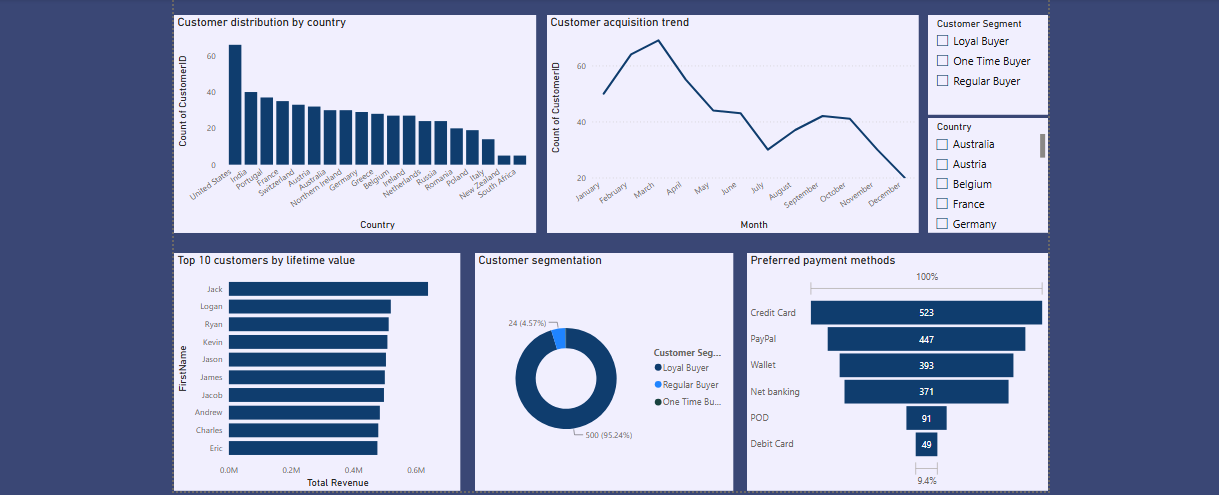

Layout of this report page (visuals, bound fields, positions):
{"tool":"powerbi","page":{"name":"Customer Behavior","canvas":[1280,720],"ordinal":2},"visuals":[{"type":"clusteredColumnChart","title":"Customer distribution by country","fields":{"Category":["customers.Country"],"Y":["CountNonNull(customers.CustomerID)"]},"box":[0,23.4,529.8,319],"z":0},{"type":"lineChart","title":"Customer acquisition trend","fields":{"Category":["customers.DateEntered.Variation.Date Hierarchy.Month"],"Y":["CountNonNull(customers.CustomerID)"]},"box":[545.9,23.4,544.4,319],"z":1000},{"type":"donutChart","title":"Customer segmentation","fields":{"Category":["customers.Customer Segment"],"Y":["CountNonNull(customers.CustomerID)"]},"box":[440.5,371.7,377.6,348.3],"z":2000},{"type":"clusteredBarChart","title":"Top 10 customers by lifetime value","fields":{"Category":["customers.FirstName"],"Y":["orders.Total Revenue"]},"box":[0,371.7,418.5,348.3],"z":3000},{"type":"funnel","title":"Preferred payment methods","fields":{"Category":["payments.PaymentType"],"Y":["Count(orders.CustomerID)"]},"box":[838.5,371.7,442,348.3],"z":4000},{"type":"slicer","fields":{"Values":["customers.Customer Segment"]},"box":[1103.4,23.4,177.1,146.3],"z":5000},{"type":"slicer","fields":{"Values":["customers.Country"]},"box":[1103.4,174.1,177.1,168.3],"z":6000}]}

Visuals, with their boxes in screenshot pixels (x1, y1, x2, y2):
"Customer distribution by country" clusteredColumnChart: detection(171, 16, 531, 232)
"Customer acquisition trend" lineChart: detection(542, 16, 911, 232)
"Customer segmentation" donutChart: detection(470, 252, 726, 488)
"Top 10 customers by lifetime value" clusteredBarChart: detection(171, 252, 455, 488)
"Preferred payment methods" funnel: detection(740, 252, 1040, 488)
slicer - customers.Customer Segment: detection(920, 16, 1040, 115)
slicer - customers.Country: detection(920, 118, 1040, 232)
